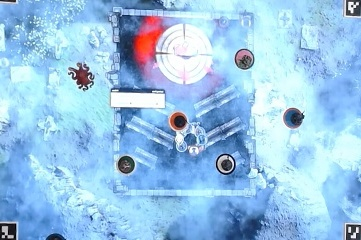giant_red_octopus: (64, 59, 99, 94)
green: (114, 153, 137, 176)
light_blue_orange: (283, 107, 306, 130)
orange: (167, 110, 190, 133)
pink_green: (234, 47, 257, 70)
white: (215, 153, 237, 176)
